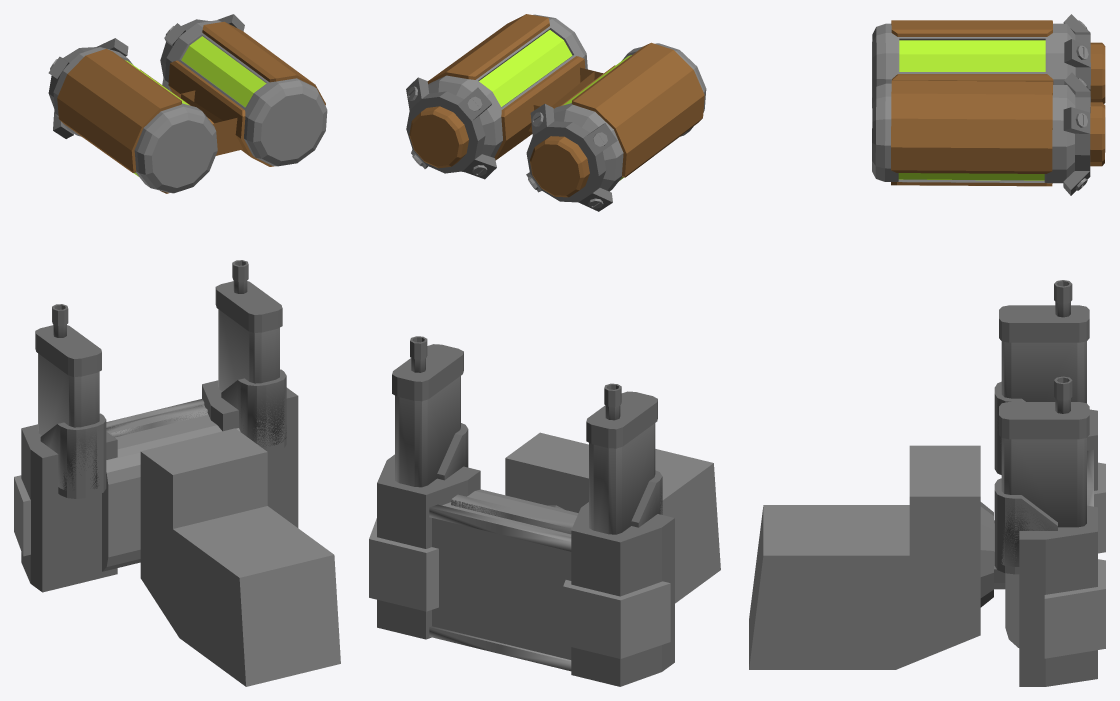
File: jetpackfixed.fbx
3 views of the same model, side by side, from view 1: azimuth 30°, elevation 25°; view 2: azimuth 150°, elevation 25°; view 3: azimuth 270°, elevation 25° (orthographic). The views are drawn at different scales.
Visible parts, largest first — view 1: DOUBLEMOUNT, JETPACK; view 2: DOUBLEMOUNT, JETPACK; view 3: DOUBLEMOUNT, JETPACK.
Part boxes in pixels (box(x1,y1,x2,y2)): DOUBLEMOUNT: box(14, 260, 340, 686); JETPACK: box(48, 14, 327, 193); DOUBLEMOUNT: box(369, 336, 720, 686); JETPACK: box(406, 14, 706, 211); DOUBLEMOUNT: box(749, 280, 1105, 686); JETPACK: box(872, 14, 1105, 195).
Bounding box in the file's own units: 71.07 × 135 × 73.88.
